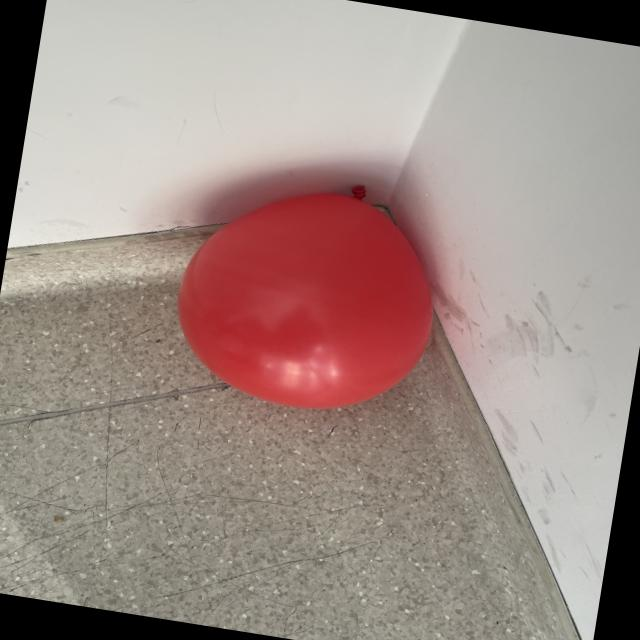balloon: (178, 186, 432, 408)
